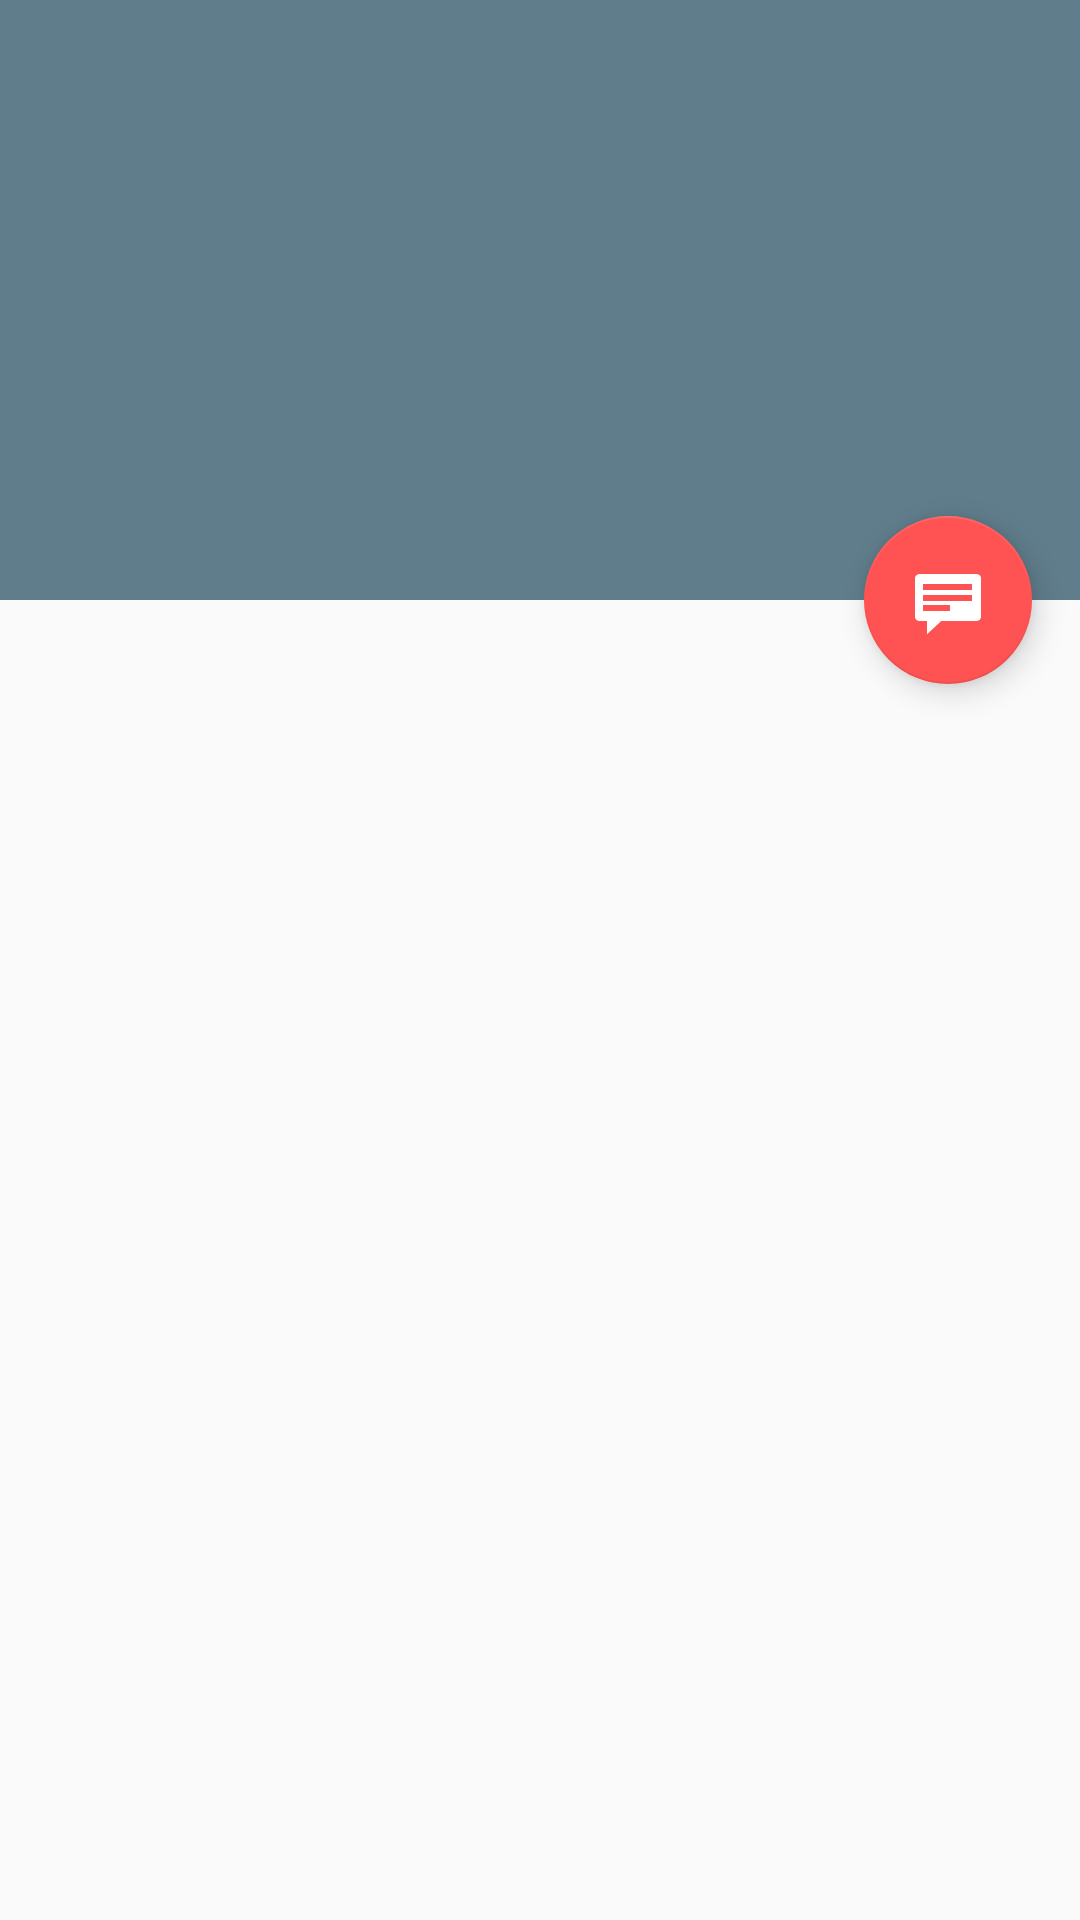

Screen size 1080 × 1920. Icon name, then its center in pixels as point (x, y):
chat: point (948, 600)
